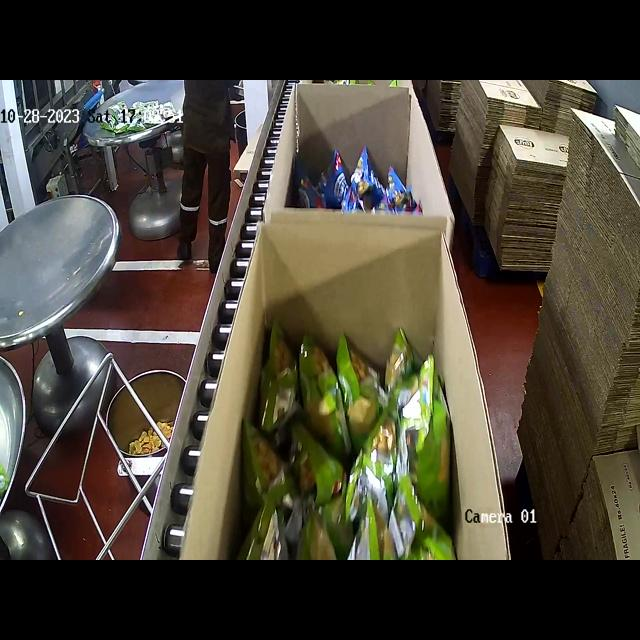paprika: (296, 156, 412, 214)
yogurt: (268, 322, 460, 559)
